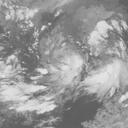cyclone: (25, 43, 114, 102)
